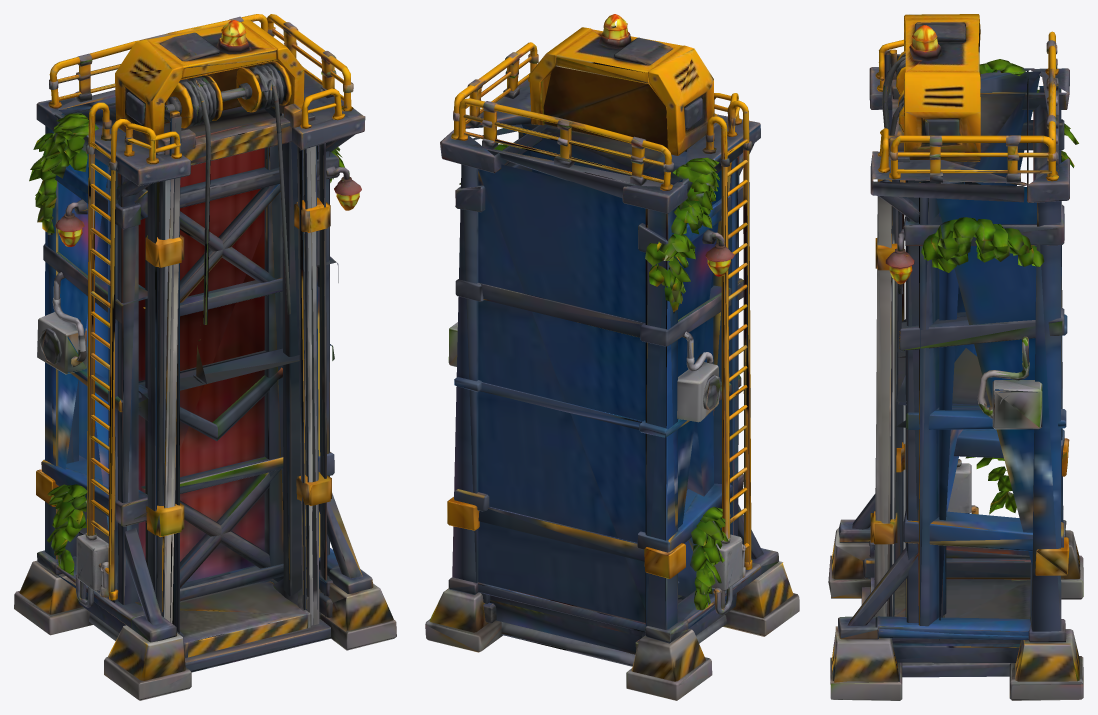
File: lift_frame.glb
3 views of the same model, side by side, from view 1: azimuth 30°, elevation 25°; view 2: azimuth 150°, elevation 25°; view 3: azimuth 270°, elevation 25° (orthographic). The views are drawn at different scales.
Size of what is drawn, in the model's own units: 0.4594 by 1 by 0.3742.
Materials: 1 (1 with a texture image).
